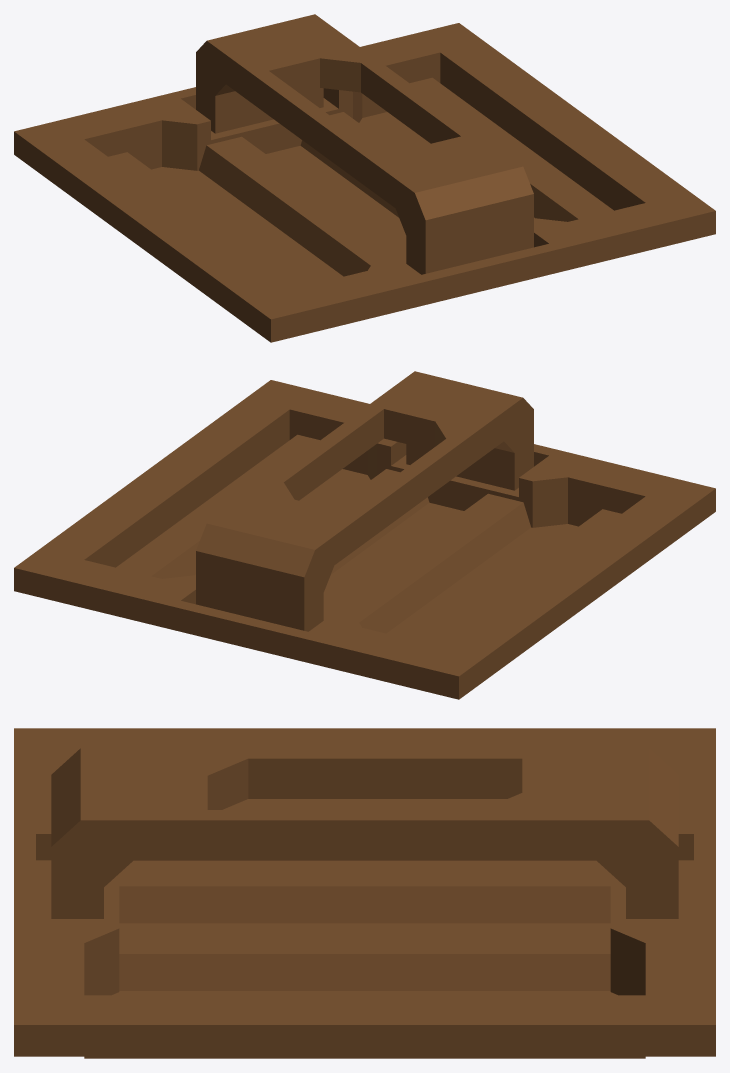
Rendered from Ceiling_B_2x2m.FBX.
The picture shows the model from 3 angles, top to bottom: view 1: azimuth 30°, elevation 25°; view 2: azimuth 150°, elevation 25°; view 3: azimuth 270°, elevation 25°; orthographic projection. The views are drawn at different scales.
Visible parts, largest first — view 1: Ceiling_B_2x2m; view 2: Ceiling_B_2x2m; view 3: Ceiling_B_2x2m.
Boxes of the visible parts, left/top/right/bottom form: Ceiling_B_2x2m: left=14, top=14, right=715, bottom=342; Ceiling_B_2x2m: left=14, top=371, right=715, bottom=699; Ceiling_B_2x2m: left=14, top=728, right=715, bottom=1058.
Size of the model in its own units: 200 by 49.01 by 200.
